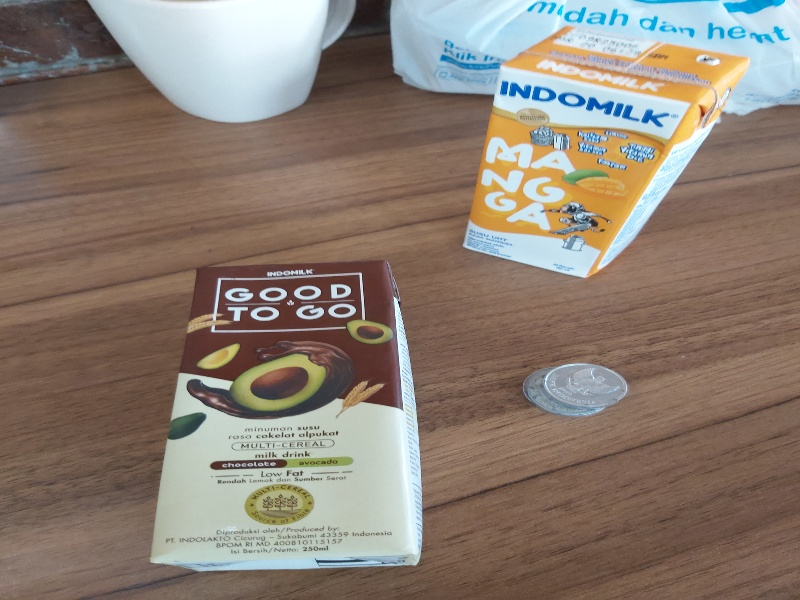cokelat: (148, 259, 422, 571)
mangga: (461, 24, 750, 279)
